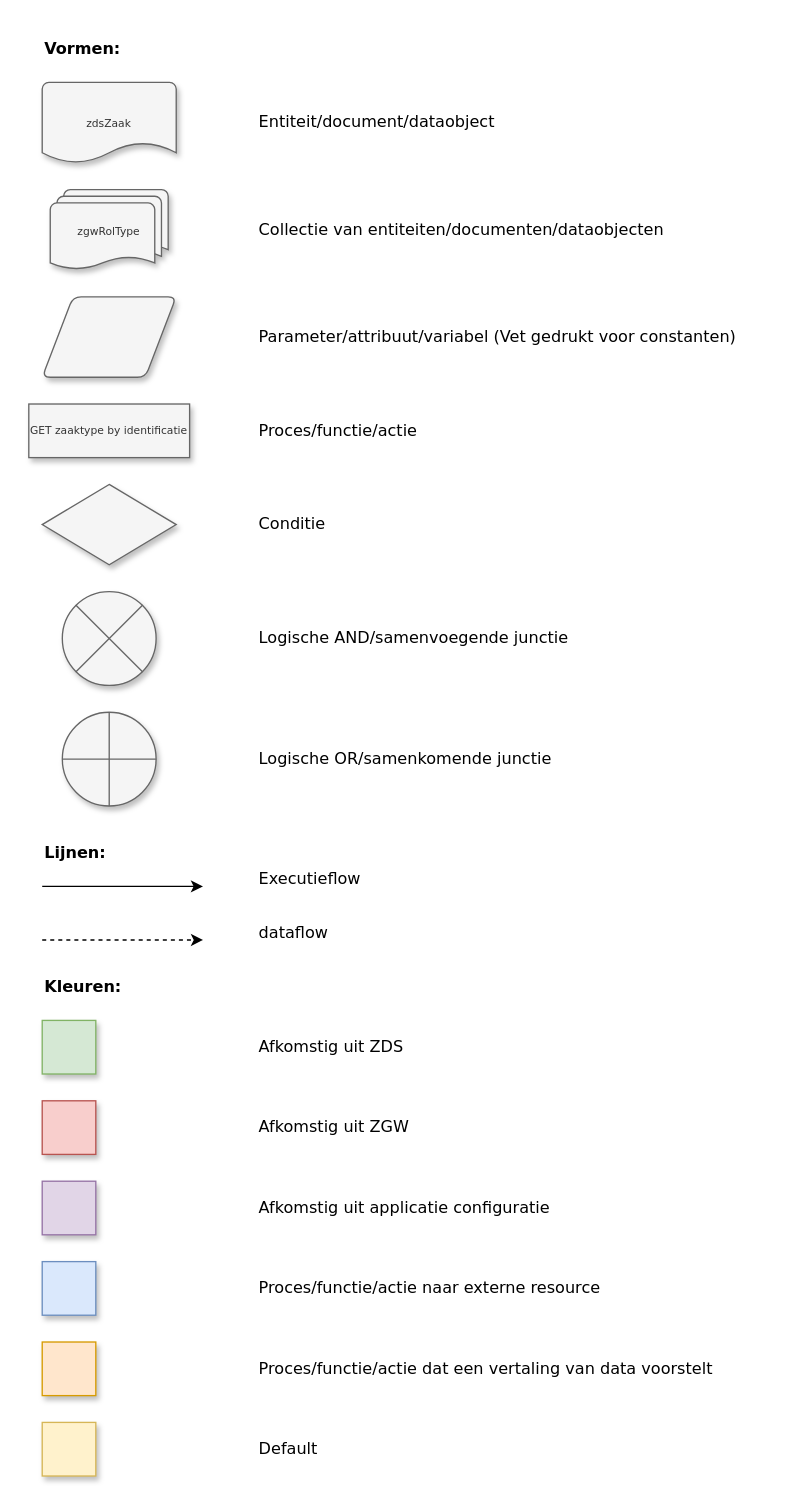
Some shapes in this 797 by 1509 pixel diagram are drawn without their labels. The centre of each missing label's shape, as x and y in pixels:
condition: (110,526)
identificatie: (110,338)
